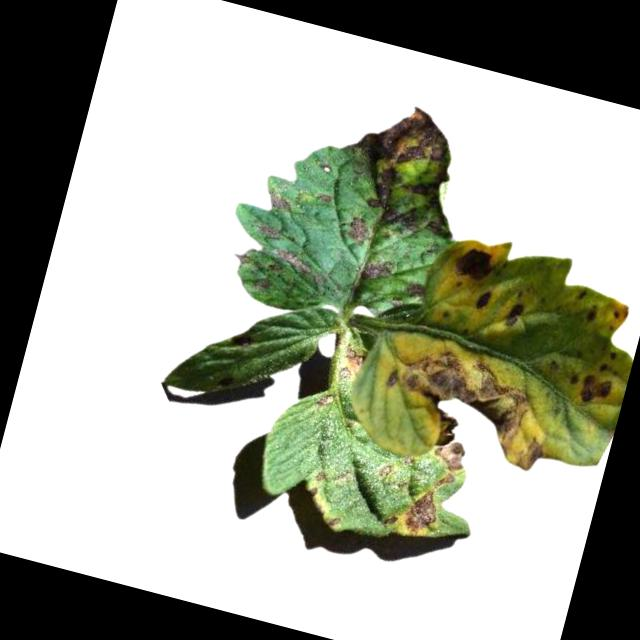Early_blight: (377, 335, 562, 470), (342, 89, 480, 238), (264, 241, 330, 289), (430, 406, 477, 472), (452, 238, 502, 283), (402, 483, 442, 537), (579, 365, 618, 407), (357, 252, 399, 286), (339, 344, 366, 382), (346, 213, 376, 247), (263, 185, 294, 214), (504, 299, 528, 330), (473, 283, 496, 314), (436, 467, 459, 492), (260, 221, 285, 240), (314, 187, 337, 207), (313, 391, 337, 408), (584, 303, 602, 324), (313, 465, 329, 485), (377, 461, 394, 479), (327, 511, 343, 528)
